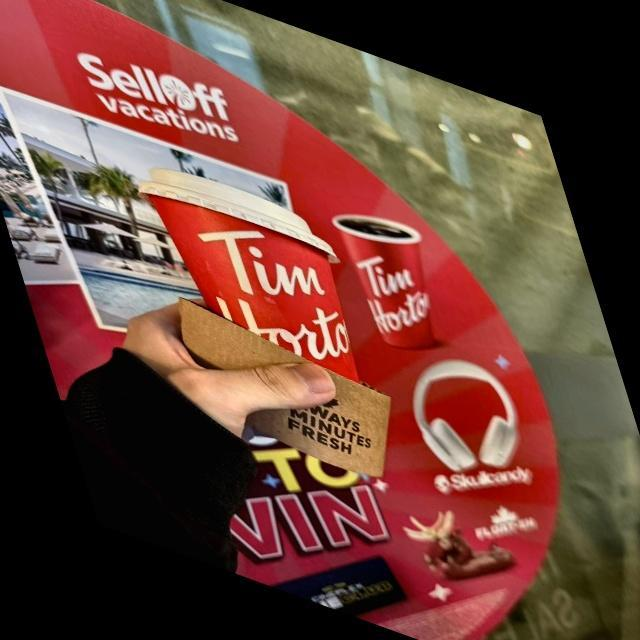timmies: (132, 162, 363, 430), (332, 209, 438, 352)
